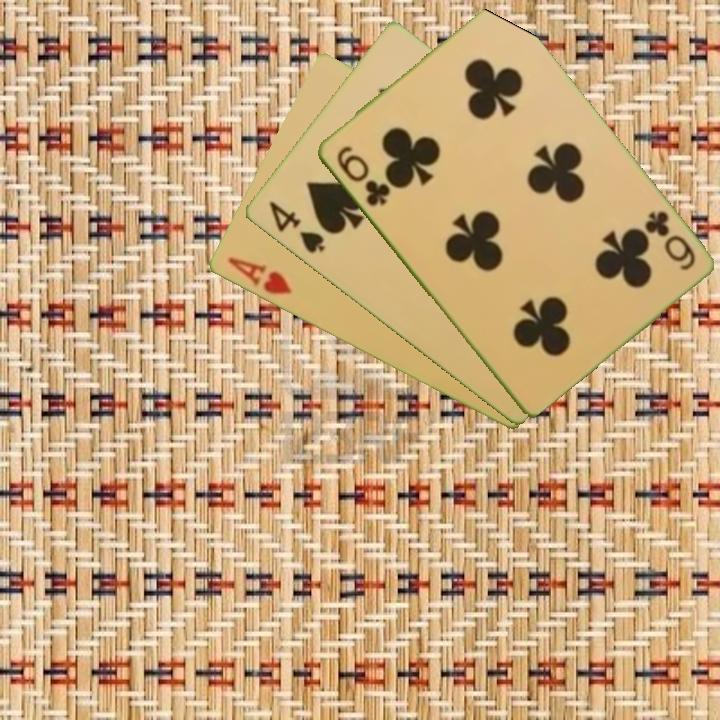4s: (264, 197, 328, 256)
6c: (332, 142, 393, 209), (640, 207, 698, 274)
Ah: (223, 253, 295, 298)
